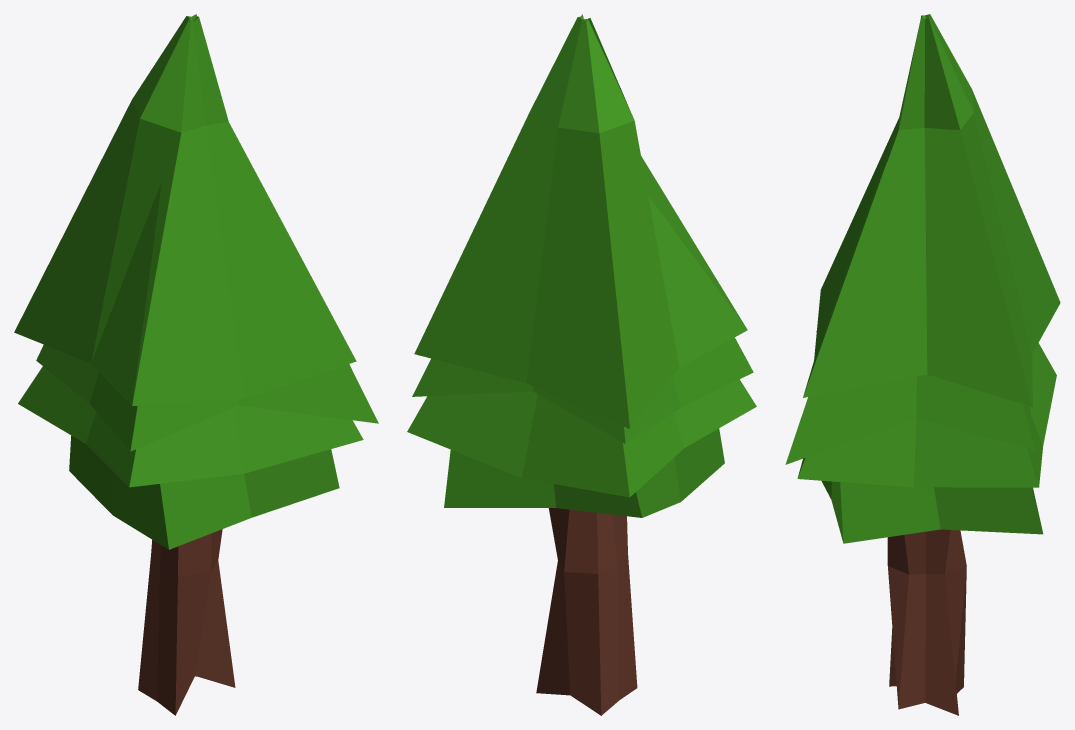
The model's file is Tree_small_02.fbx.
The picture shows the model from 3 angles, left to right: view 1: azimuth 30°, elevation 25°; view 2: azimuth 150°, elevation 25°; view 3: azimuth 270°, elevation 25°; orthographic projection.
Parts seen in each view (by area): view 1: Tree_small_02; view 2: Tree_small_02; view 3: Tree_small_02.
Boxes of the visible parts, x1,y1,x2,y2 form: Tree_small_02: (14,14,378,715); Tree_small_02: (407,14,756,715); Tree_small_02: (785,14,1060,715).
Bounding box in the file's own units: 3.92 × 10.57 × 3.83.
